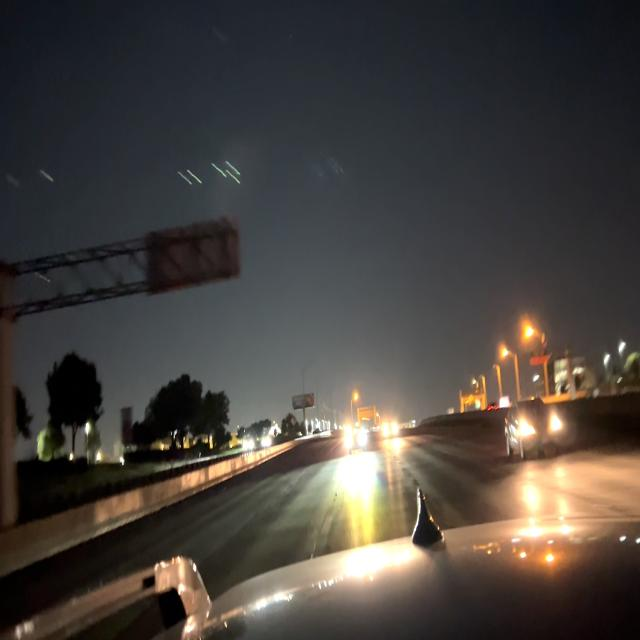back-of-sign: (145, 218, 243, 293)
